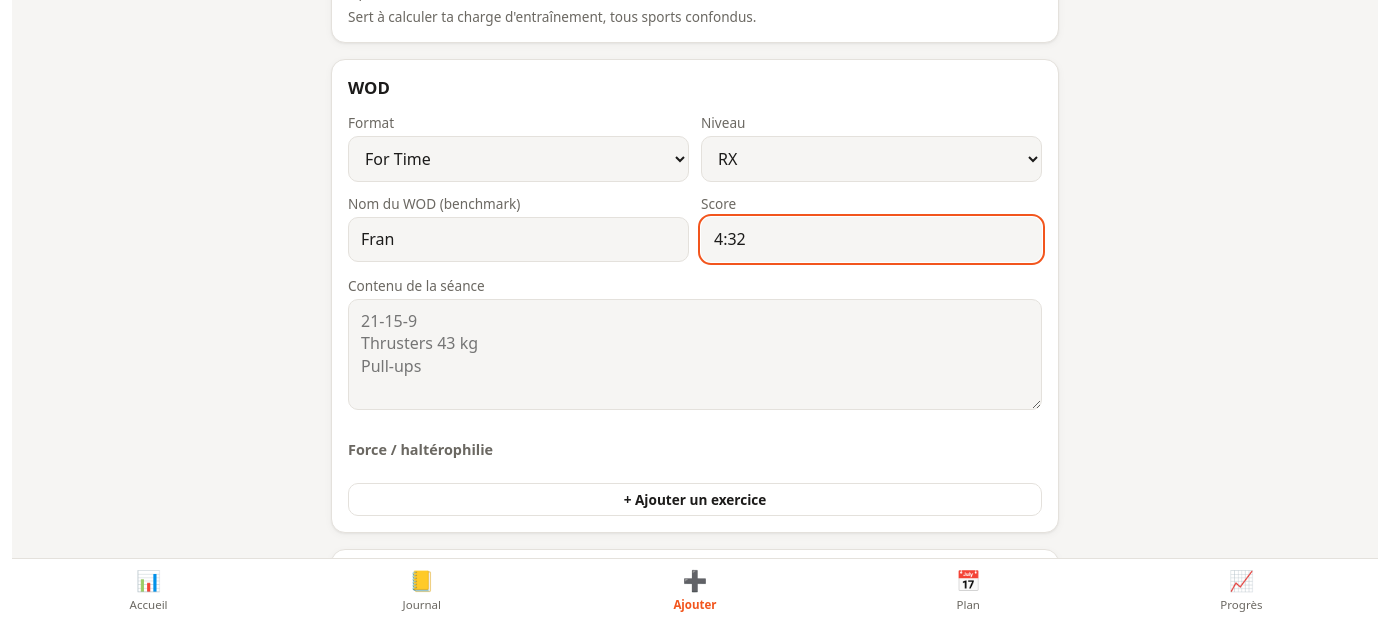
Test: App › saisit un WOD CrossFit avec exercices de force
The width and height of the screenshot is (1390, 623).
Earlier steps of the test are not shown.
(page scrolled)
Click the button "+ Ajouter un exercice" at (695, 499), box [348,483,1042,516]
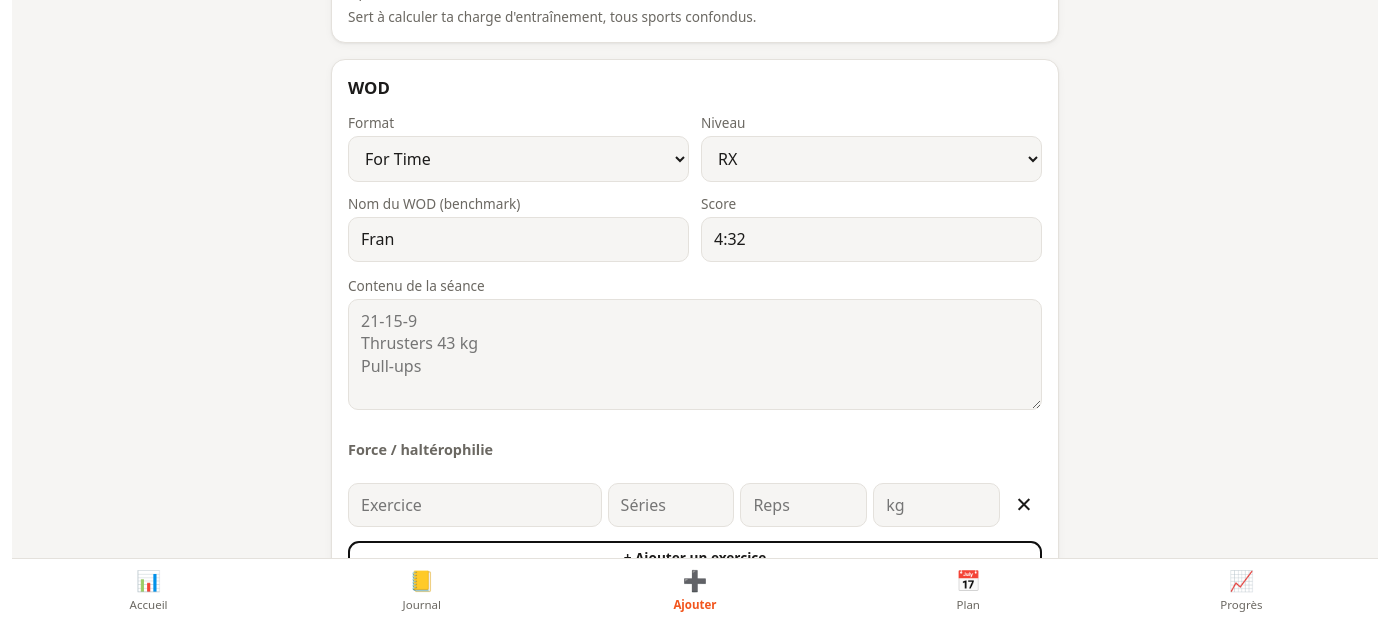
Type "Back Squat" into the field named "Exercice 1" at (475, 505), box [348,483,602,527]
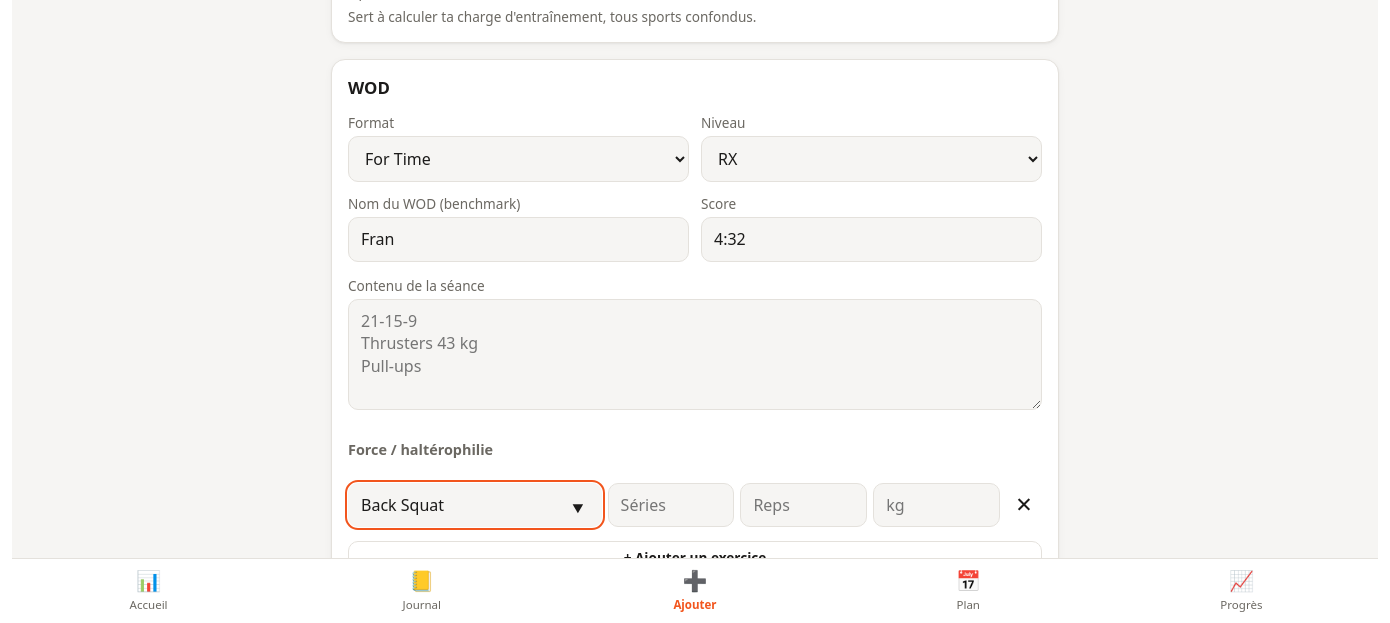
Type "5" into the field named "Séries 1" at (671, 505), box [608,483,734,527]
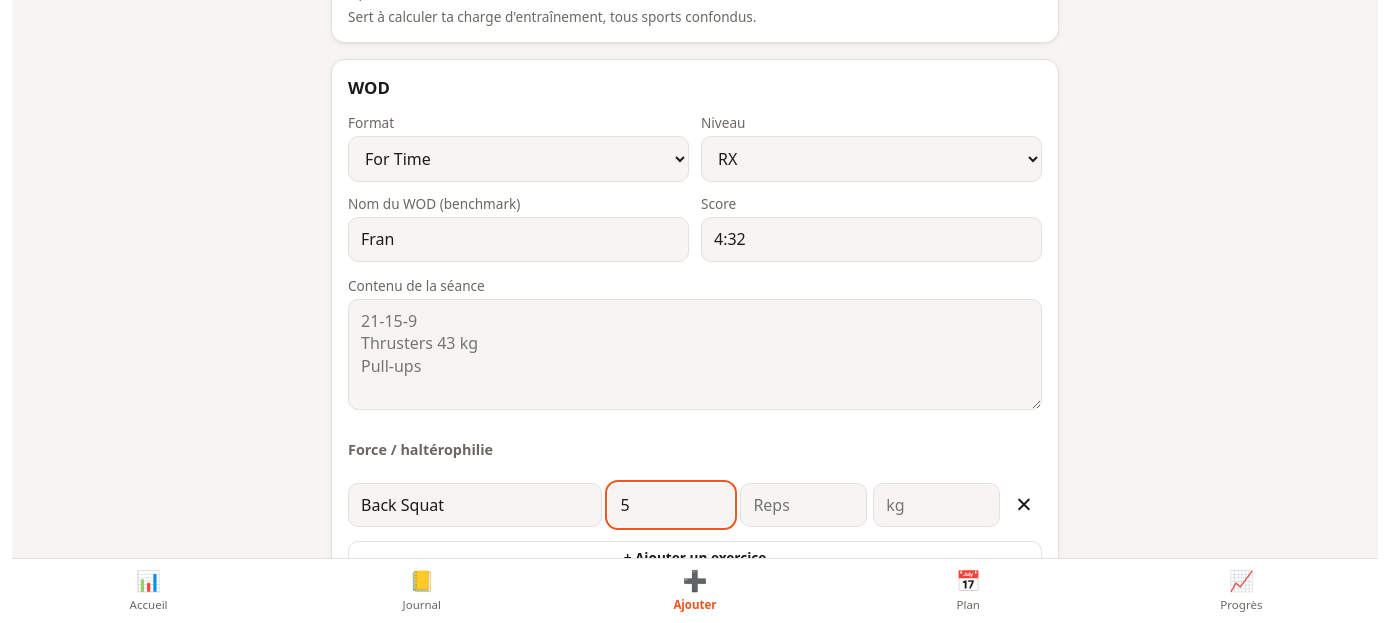
Type "5" into the field named "Répétitions 1" at (804, 505), box [740,483,867,527]
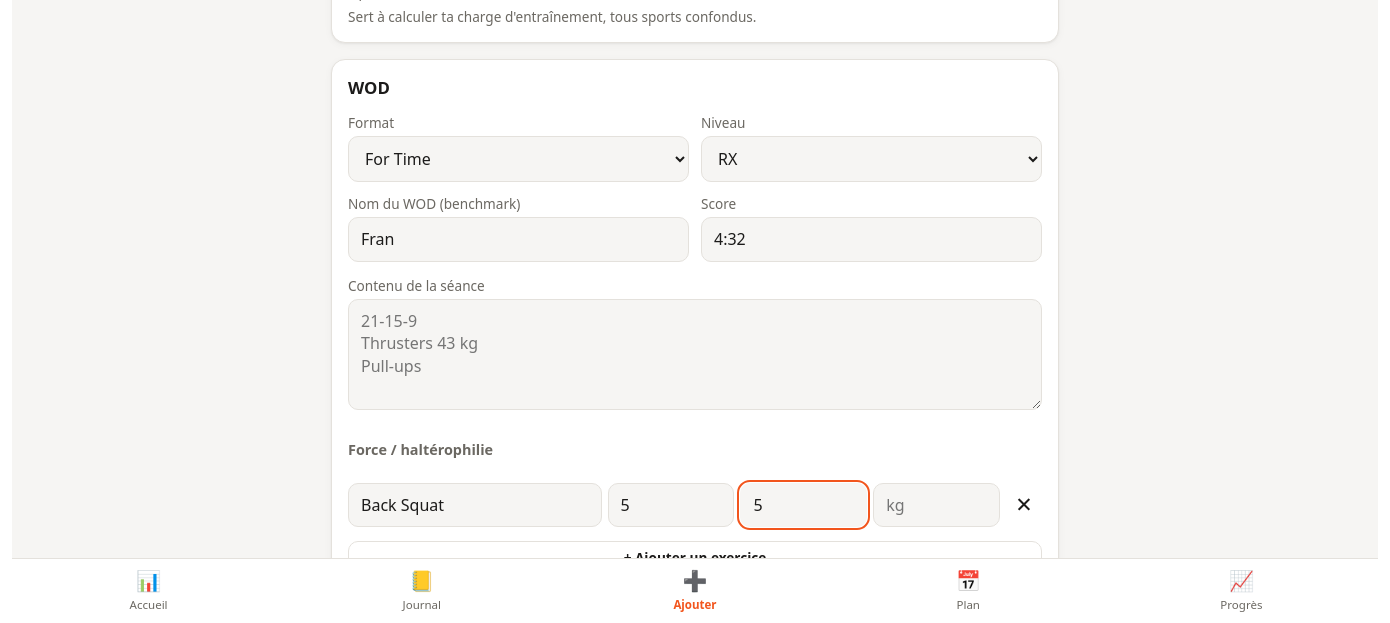
Type "100" into the field named "Charge 1" at (937, 505), box [873,483,1000,527]
(page scrolled)
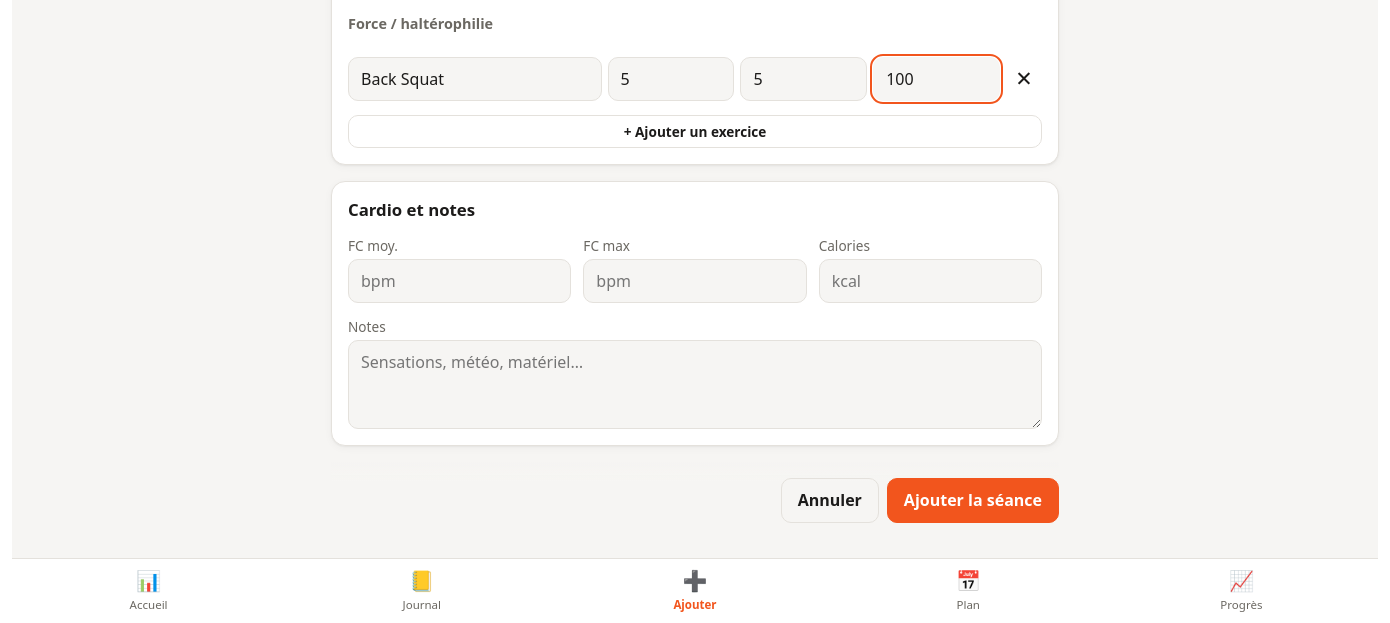
Click the button "Ajouter la séance" at (973, 500), box [887,478,1059,523]
(page scrolled)
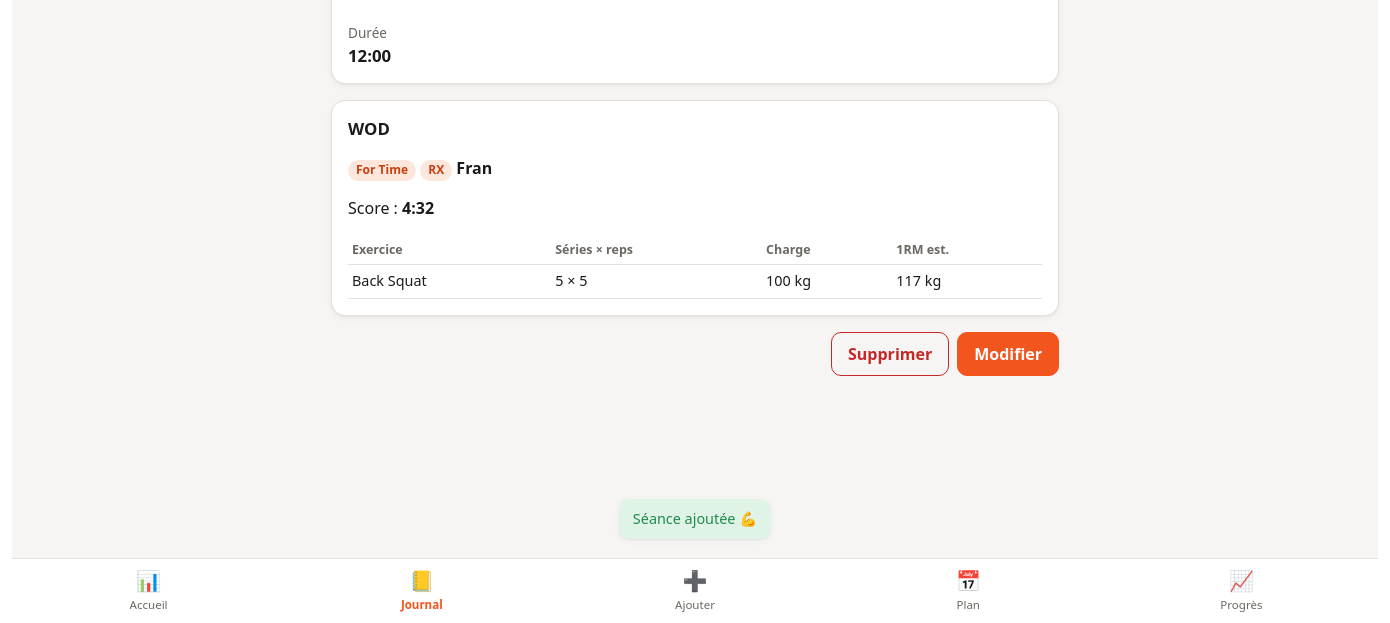
Expected: the text "117 kg" is shown, [892,265,1042,298]
